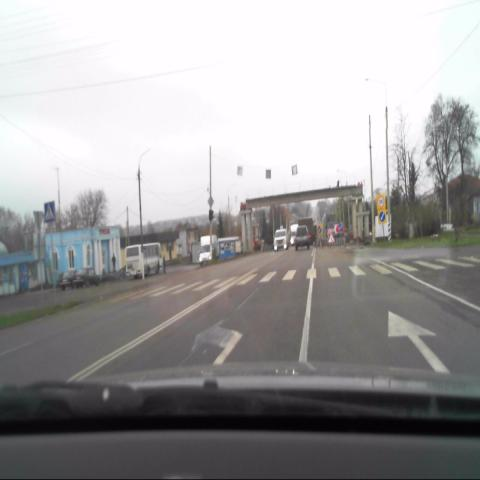3_24: (377, 196, 385, 209)
4_2_2: (378, 211, 386, 224)
